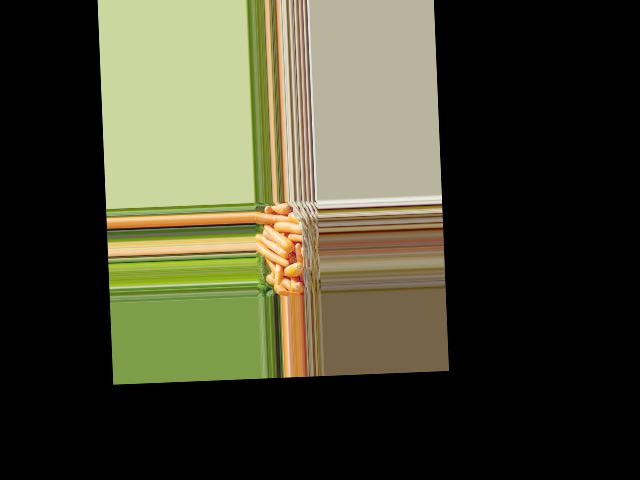carrot: (293, 282, 305, 292)
